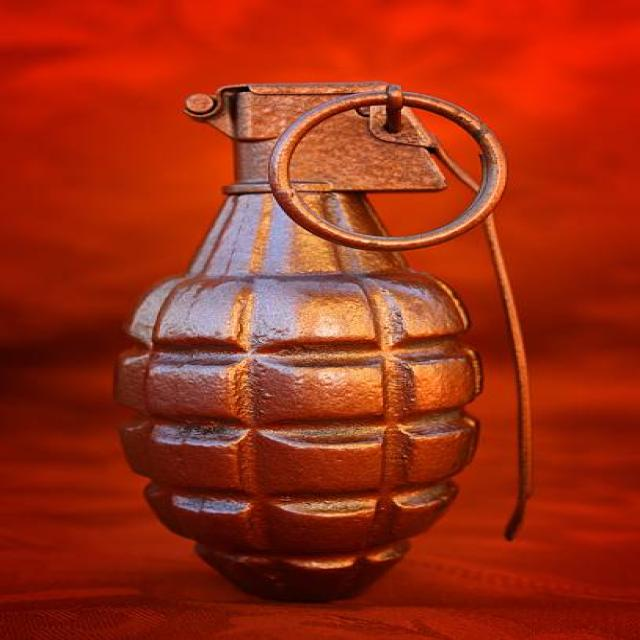grenade: (95, 71, 556, 607)
